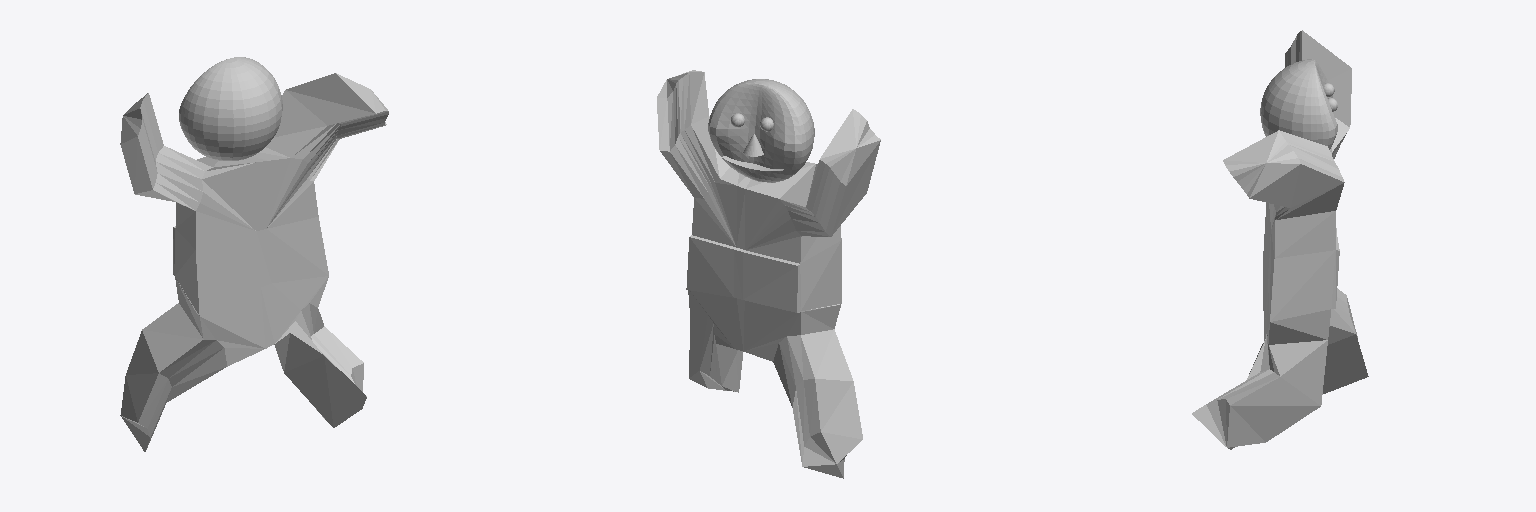
The model's file is manjump_000027.obj.
The picture shows the model from 3 angles: view 1: azimuth 30°, elevation 25°; view 2: azimuth 150°, elevation 25°; view 3: azimuth 270°, elevation 25°; orthographic projection.
Visible parts, largest first — view 1: Cube; view 2: Cube; view 3: Cube.
Part boxes in pixels (x1,y1,x2,y2): Cube: (120,57,388,451); Cube: (657,70,880,478); Cube: (1192,30,1368,449).
Size of the model in its own units: 81.51 by 126 by 54.12.